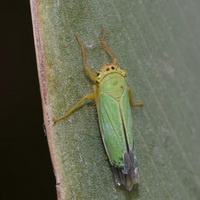insect: (53, 28, 143, 190)
